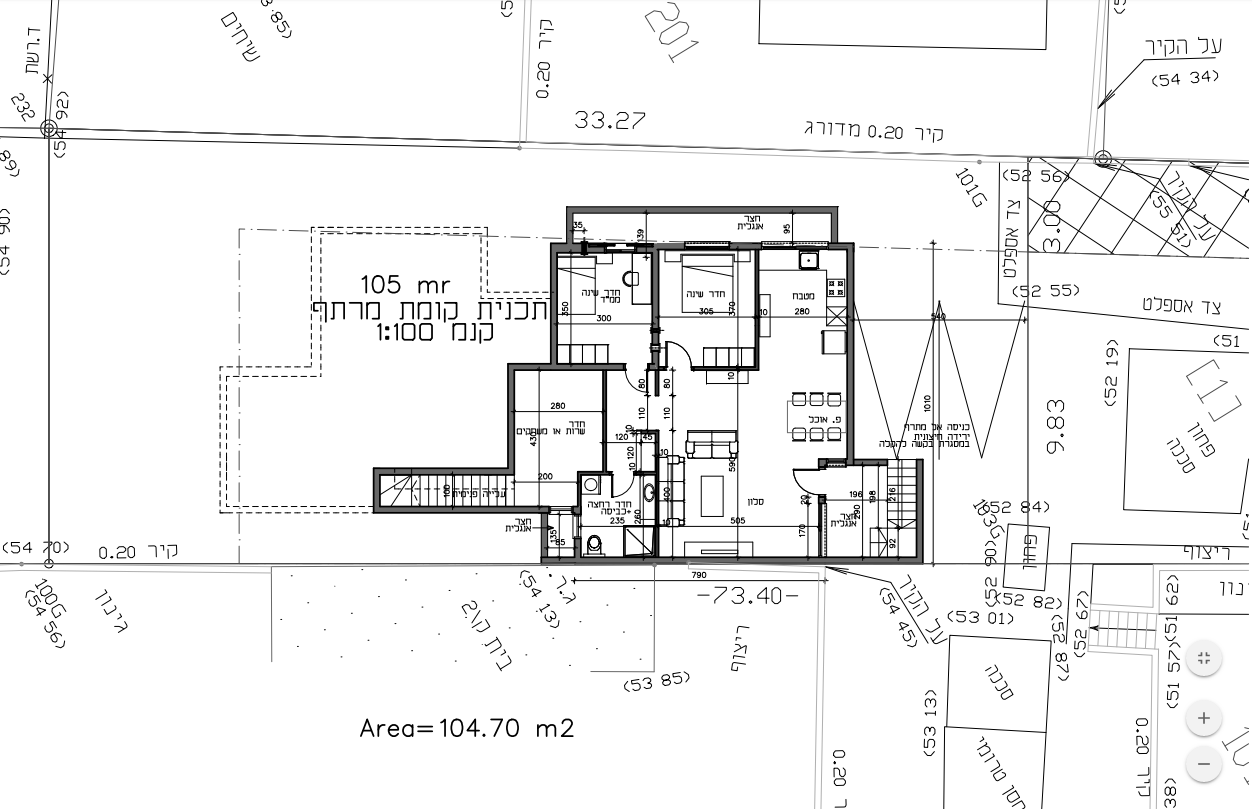door: (619, 363, 652, 397), (661, 340, 694, 374), (606, 468, 639, 502), (790, 465, 823, 499)
wall: (541, 556, 903, 563), (846, 242, 854, 464), (507, 363, 623, 372), (374, 468, 512, 475), (372, 504, 510, 511)
window: (758, 240, 830, 251), (680, 239, 729, 251), (602, 240, 637, 254)
